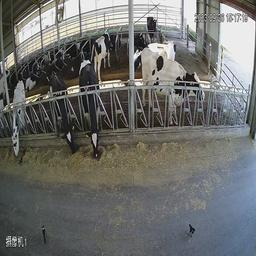cow: (139, 44, 205, 120), (41, 54, 75, 163), (76, 52, 104, 161), (7, 73, 31, 162), (92, 25, 116, 75), (144, 13, 160, 38)
